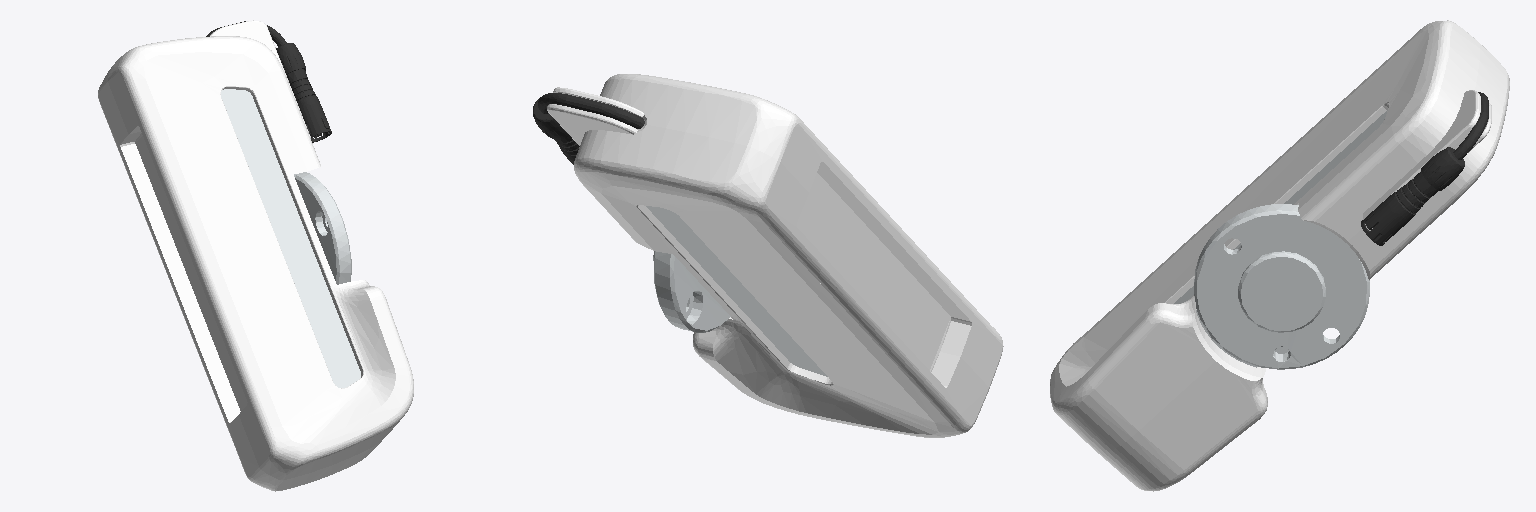
robot.urdf — panda:
<?xml version="1.0" ?>
<robot name="panda" xmlns:xacro="http://www.ros.org/wiki/xacro">
  <link name="panda_link0">
    <visual>
      <geometry>
        <mesh filename="package://crm-panda/meshes/visual/link0.dae"/>
      </geometry>
    </visual>
    <collision>
      <geometry>
        <mesh filename="package://crm-panda/meshes/collision/link0.obj"/>
      </geometry>
    </collision>
    <inertial>
      <!-- Estimated guesses from CAD -->
      <origin rpy="0 0 0" xyz="-0.041018 -0.00014 0.049974"/>
      <mass value="0.629769"/>  
      <inertia ixx="0.00315" ixy="8.2904e-7" ixz="0.0015" iyy="0.00388" iyz="8.2299e-6" izz="0.004285"/>
    </inertial>
  </link>
  <link name="panda_link1">
    <visual>
      <geometry>
        <mesh filename="package://crm-panda/meshes/visual/link1.dae"/>
      </geometry>
    </visual>
    <collision>
      <geometry>
        <mesh filename="package://crm-panda/meshes/collision/link1.obj"/>
      </geometry>
    </collision>
    <inertial>
      <origin rpy="0 0 0" xyz="0.003875 0.002081 -0.04762"/>
      <mass value="4.970684"/>
      <inertia ixx="0.70337" ixy="-0.00013900" ixz="0.0067720" iyy="0.70661" iyz="0.019169" izz="0.0091170"/>
    </inertial>
  </link>
  <joint name="panda_joint1" type="revolute">
    <safety_controller k_position="100.0" k_velocity="40.0" soft_lower_limit="-2.8973" soft_upper_limit="2.8973"/>
    <origin rpy="0 0 0" xyz="0 0 0.333"/>
    <parent link="panda_link0"/>
    <child link="panda_link1"/>
    <axis xyz="0 0 1"/>
    <dynamics damping="10.0"/>
    <limit effort="87" lower="-2.8973" upper="2.8973" velocity="2.1750"/>
  </joint>
  <link name="panda_link2">
    <visual>
      <geometry>
        <mesh filename="package://crm-panda/meshes/visual/link2.dae"/>
      </geometry>
    </visual>
    <collision>
      <geometry>
        <mesh filename="package://crm-panda/meshes/collision/link2.obj"/>
      </geometry>
    </collision>
    <inertial>
      <origin rpy="0 0 0" xyz=" -0.003141 -0.02872  0.003495"/>
      <mass value="0.646926"/>
      <inertia ixx="0.0079620" ixy="-3.9250e-3" ixz="1.0254e-02" iyy="2.8110e-02" iyz="7.0400e-04" izz="2.5995e-02"/>
    </inertial>
  </link>
  <joint name="panda_joint2" type="revolute">
    <safety_controller k_position="100.0" k_velocity="40.0" soft_lower_limit="-1.7628" soft_upper_limit="1.7628"/>
    <origin rpy="-1.57079632679 0 0" xyz="0 0 0"/>
    <parent link="panda_link1"/>
    <child link="panda_link2"/>
    <axis xyz="0 0 1"/>
    <dynamics damping="10.0"/>
    <limit effort="87" lower="-1.7628" upper="1.7628" velocity="2.1750"/>
  </joint>
  <link name="panda_link3">
    <visual>
      <geometry>
        <mesh filename="package://crm-panda/meshes/visual/link3.dae"/>
      </geometry>
    </visual>
    <collision>
      <geometry>
        <mesh filename="package://crm-panda/meshes/collision/link3.obj"/>
      </geometry>
    </collision>
    <inertial>
      <origin rpy="0 0 0" xyz="2.7518e-02 3.9252e-02 -6.6502e-02"/>
      <mass value="3.228604"/>
      <inertia ixx="3.7242e-02" ixy="-4.7610e-03" ixz="-1.1396e-02" iyy="3.6155e-02" iyz="-1.2805e-02" izz="1.0830e-02"/>
    </inertial>
  </link>
  <joint name="panda_joint3" type="revolute">
    <safety_controller k_position="100.0" k_velocity="40.0" soft_lower_limit="-2.8973" soft_upper_limit="2.8973"/>
    <origin rpy="1.57079632679 0 0" xyz="0 -0.316 0"/>
    <parent link="panda_link2"/>
    <child link="panda_link3"/>
    <axis xyz="0 0 1"/>
    <dynamics damping="10.0"/>
    <limit effort="87" lower="-2.8973" upper="2.8973" velocity="2.1750"/>
  </joint>
  <link name="panda_link4">
    <visual>
      <geometry>
        <mesh filename="package://crm-panda/meshes/visual/link4.dae"/>
      </geometry>
    </visual>
    <collision>
      <geometry>
        <mesh filename="package://crm-panda/meshes/collision/link4.obj"/>
      </geometry>
    </collision>
    <inertial>
      <origin rpy="0 0 0" xyz="-5.317e-02 1.04419e-01 2.7454e-02"/>
      <mass value="3.587895"/>
      <inertia ixx="2.5853e-02" ixy="7.7960e-03" ixz="-1.3320e-03" iyy="1.9552e-02" iyz="8.6410e-03" izz="2.8323e-02"/>
    </inertial>
  </link>
  <joint name="panda_joint4" type="revolute">
    <safety_controller k_position="100.0" k_velocity="40.0" soft_lower_limit="-3.0718" soft_upper_limit="-0.0698"/>
    <origin rpy="1.57079632679 0 0" xyz="0.0825 0 0"/>
    <parent link="panda_link3"/>
    <child link="panda_link4"/>
    <axis xyz="0 0 1"/>    
    <dynamics damping="10.0"/>
    <limit effort="87" lower="-3.0718" upper="-0.0698" velocity="2.1750"/>
    <!-- something is weird with this joint limit config
    <dynamics damping="10.0"/>
    <limit effort="87" lower="-3.0" upper="0.087" velocity="2.1750"/>  -->
  </joint>
  <link name="panda_link5">
    <visual>
      <geometry>
        <mesh filename="package://crm-panda/meshes/visual/link5.dae"/>
      </geometry>
    </visual>
    <collision>
      <geometry>
        <mesh filename="package://crm-panda/meshes/collision/link5.obj"/>
      </geometry>
    </collision>
    <inertial>
      <origin rpy="0 0 0" xyz="-1.1953e-02 4.1065e-02 -3.8437e-02"/>
      <mass value="1.225946"/>
      <inertia ixx="3.5549e-02" ixy="-2.1170e-03" ixz="-4.0370e-03" iyy="2.9474e-02" iyz="2.2900e-04" izz="8.6270e-03"/>
    </inertial>
  </link>
  <joint name="panda_joint5" type="revolute">
    <safety_controller k_position="100.0" k_velocity="40.0" soft_lower_limit="-2.8973" soft_upper_limit="2.8973"/>
    <origin rpy="-1.57079632679 0 0" xyz="-0.0825 0.384 0"/>
    <parent link="panda_link4"/>
    <child link="panda_link5"/>
    <axis xyz="0 0 1"/>
    <dynamics damping="10.0"/>
    <limit effort="12" lower="-2.8973" upper="2.8973" velocity="2.6100"/>
  </joint>
  <link name="panda_link6">
    <visual>
      <geometry>
        <mesh filename="package://crm-panda/meshes/visual/link6.dae"/>
      </geometry>
    </visual>
    <collision>
      <geometry>
        <mesh filename="package://crm-panda/meshes/collision/link6.obj"/>
      </geometry>
    </collision>
    <inertial>
      <origin rpy="0 0 0" xyz="6.0149e-02 -1.4117e-02 -1.0517e-02"/>
      <mass value="1.666555"/>
      <inertia ixx="1.9640e-03" ixy="1.0900e-04" ixz="-1.1580e-03" iyy="4.3540e-03" iyz="3.4100e-04" izz="5.4330e-03"/>
    </inertial>
  </link>
  <joint name="panda_joint6" type="revolute">
    <safety_controller k_position="100.0" k_velocity="40.0" soft_lower_limit="-0.0175" soft_upper_limit="3.7525"/>
    <origin rpy="1.57079632679 0 0" xyz="0 0 0"/>
    <parent link="panda_link5"/>
    <child link="panda_link6"/>
    <axis xyz="0 0 1"/>
    <dynamics damping="10.0"/>
    <limit effort="12" lower="-0.0175" upper="3.7525" velocity="2.6100"/>
    <!-- <dynamics damping="10.0"/>
    <limit effort="12" lower="-0.0873" upper="3.0" velocity="2.6100"/> -->
  </joint>
  <link name="panda_link7">
    <visual>
      <geometry>
        <mesh filename="package://crm-panda/meshes/visual/link7.dae"/>
      </geometry>
    </visual>
    <collision>
      <geometry>
        <mesh filename="package://crm-panda/meshes/collision/link7.obj"/>
      </geometry>
    </collision>
    <inertial>
      <origin rpy="0 0 0" xyz="1.0517e-02 -4.252e-03 6.1597e-02"/>
      <mass value="7.35522e-01"/>
      <inertia ixx="1.2516e-02" ixy="-4.2800e-04" ixz="-1.1960e-03" iyy="1.0027e-02" iyz="-7.4100e-04" izz="4.8150e-03"/>
    </inertial>
  </link>
  <joint name="panda_joint7" type="revolute">
    <safety_controller k_position="100.0" k_velocity="40.0" soft_lower_limit="-2.8973" soft_upper_limit="2.8973"/>
    <origin rpy="1.57079632679 0 0" xyz="0.088 0 0"/>
    <parent link="panda_link6"/>
    <child link="panda_link7"/>
    <axis xyz="0 0 1"/>
    <dynamics damping="10.0"/>
    <limit effort="12" lower="-2.8973" upper="2.8973" velocity="2.6100"/>
  </joint>
  <!--
  <link name="panda_link8"/>
  <joint name="panda_joint8" type="fixed">
    <origin rpy="0 0 0" xyz="0 0 0.107"/>
    <parent link="panda_link7"/>
    <child link="panda_link8"/>
    <axis xyz="0 0 0"/>
  </joint>
  Removing this joint seems to help with some stability things
  -->
  <joint name="panda_hand_joint" type="fixed">
    <!--
    <parent link="panda_link8"/>
    -->
    <parent link="panda_link7"/>
    <child link="panda_hand"/>
    <origin rpy="0 0 -0.785398163397" xyz="0 0 0.107"/>
    <!--
    <origin rpy="0 0 -0.785398163397" xyz="0 0 0"/>
    -->
  </joint>
  <link name="panda_hand">
    <visual>
      <geometry>
        <mesh filename="package://crm-panda/meshes/visual/hand.dae"/>
      </geometry>
    </visual>
    <collision>
      <geometry>
        <mesh filename="package://crm-panda/meshes/collision/hand.obj"/>
      </geometry>
    </collision>
    <inertial>
      <origin rpy="0 0 0" xyz="-0.01 0 0.03"/>
      <mass value="0.73"/>
        <inertia ixx="0.001" ixy="0.0" ixz="0.0" iyy="0.0025" iyz="0.0" izz="0.0017"/>
    </inertial>
  </link>
  <link name="panda_tool"/>
  <joint name="panda_hand_tool_joint" type="fixed">
    <origin xyz="0 0 0.1034" rpy="0 0 0" />
    <parent link="panda_hand" />
    <child link="panda_tool" />
  </joint>
  <link name="panda_leftfinger">
    <visual>
      <geometry>
        <mesh filename="package://crm-panda/meshes/visual/finger.dae"/>
      </geometry>
    </visual>
    <collision>
      <geometry>
        <mesh filename="package://crm-panda/meshes/collision/finger.obj"/>
      </geometry>
    </collision>
    <inertial>
      <mass value="0.015" />
      <origin xyz="0 0 0" rpy="0 0 0" />
      <inertia ixx="2.375e-06" ixy="0.0" ixz="0.0" iyy="2.375e-06" iyz="0.0" izz="7.5e-07" />
    </inertial>
  </link>
  <link name="panda_rightfinger">
    <visual>
      <origin rpy="0 0 3.14159265359" xyz="0 0 0"/>
      <geometry>
        <mesh filename="package://crm-panda/meshes/visual/finger.dae"/>
      </geometry>
    </visual>
    <collision>
      <origin rpy="0 0 3.14159265359" xyz="0 0 0"/>
      <geometry>
        <mesh filename="package://crm-panda/meshes/collision/finger.obj"/>
      </geometry>
    </collision>
    <inertial>
      <mass value="0.015" />
      <origin xyz="0 0 0" rpy="0 0 3.14159265359" />
      <inertia ixx="2.375e-06" ixy="0.0" ixz="0.0" iyy="2.375e-06" iyz="0.0" izz="7.5e-07" /> 
      </inertial>
  </link>
  <joint name="panda_finger_joint1" type="fixed">
    <parent link="panda_hand"/>
    <child link="panda_leftfinger"/>
    <origin rpy="0 0 0" xyz="0 0.04 0.0584"/>
    <axis xyz="0 1 0"/>
    <dynamics damping="10.0"/>
    <limit effort="20" lower="0.0" upper="0.04" velocity="0.2"/>
  </joint>
  <joint name="panda_finger_joint2" type="fixed">
    <parent link="panda_hand"/>
    <child link="panda_rightfinger"/>
    <origin rpy="0 0 0" xyz="0 -0.04 0.0584"/>
    <axis xyz="0 -1 0"/>
    <dynamics damping="10.0"/>
    <limit effort="20" lower="0.0" upper="0.04" velocity="0.2"/>
    <mimic joint="panda_finger_joint1"/>
  </joint>
</robot>

--- What the picture shows (computed from the rendered views, not written in the file) ---
Views: 3 orthographic renders of the robot side by side, from view 1: azimuth 30°, elevation 25°; view 2: azimuth 150°, elevation 25°; view 3: azimuth 270°, elevation 25°.
Model panda with 12 links and 11 joints (7 revolute, 4 fixed), rooted at panda_link0, posed joints at zero except 1 at the middle of their limits (panda_joint4 = -1.57).
Links seen in each view (by area): view 1: panda_hand; view 2: panda_hand; view 3: panda_hand.
Boxes of the visible links, left/top/right/bottom form: panda_hand: left=98, top=20, right=413, bottom=491; panda_hand: left=533, top=74, right=1003, bottom=437; panda_hand: left=1050, top=20, right=1509, bottom=491.
Size in the robot's own frame: 0.0919 by 0.1649 by 0.1649 metres.
Meshes: 10 distinct files referenced, 1 mesh visuals loaded (1 Collada DAE); not drawn: 10 (reference not matched to a file when rendering).